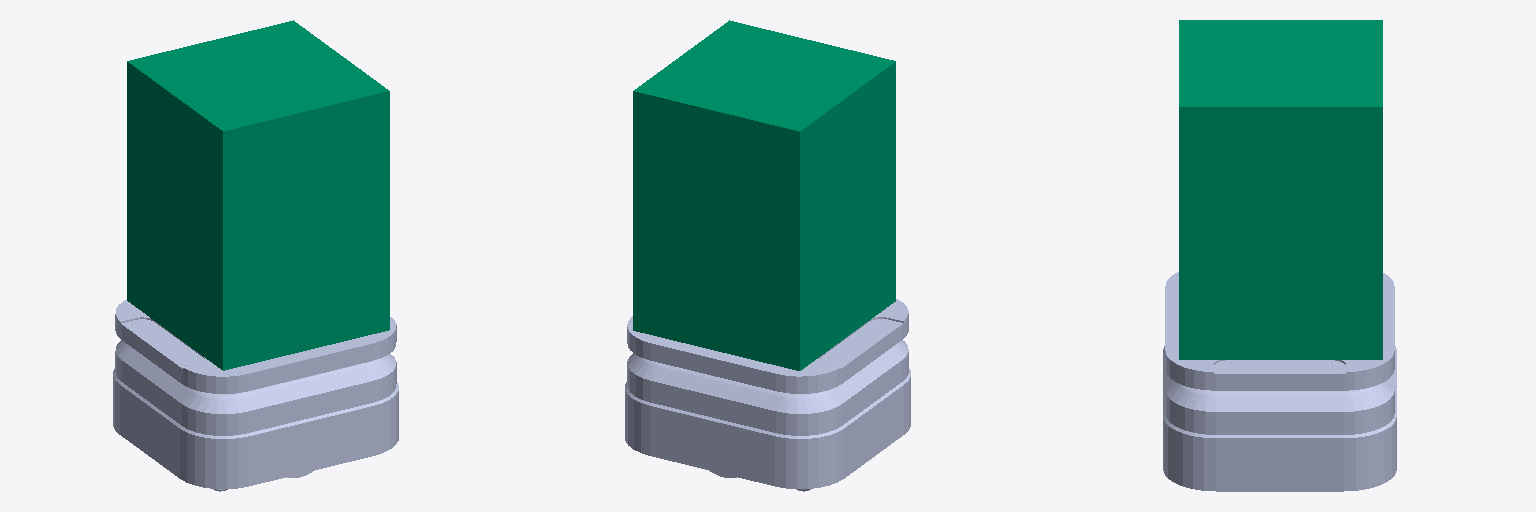
The robot description file, URDF, robot "autoxing":
<?xml version="1.0" encoding="utf-8"?>
<!-- This URDF was automatically created by SolidWorks to URDF Exporter! Originally created by [author] ([email redacted]) 
     Commit Version: 1.6.0-4-g7f85cfe  Build Version: 1.6.7995.38578
     For more information, please see http://wiki.ros.org/sw_urdf_exporter -->
<robot
  name="autoxing">
   <link
    name="Basefoot_link">
   
  </link>
    
  <link
    name="chassis">
    <inertial>
      <origin
        xyz="0.000149481705181087 -0.000120539934038988 0.152123091903942"
        rpy="0 0 0" />
      <mass
        value="40.8730395253421" />
      <inertia
        ixx="0.214418008302521"
        ixy="0.0"
        ixz="-0.0"
        iyy="0.258151038948936"
        iyz="0.0"
        izz="0.450008991346858" />
    </inertial>
    <visual>
      <origin
        xyz="0 0 0"
        rpy="0 0 0" />
      <geometry>
        <mesh
          filename="package://autoxing/meshes/base_link.STL" />
      </geometry>
      <material
        name="">
        <color
          rgba="0.792156862745098 0.819607843137255 0.933333333333333 1" />
      </material>
    </visual>
    <collision>
      <origin
        xyz="0 0 0"
        rpy="0 0 0" />
      <geometry>
        <mesh
          filename="package://autoxing/meshes/base_link.STL" />
      </geometry>
    </collision>
  </link>
 
  <joint
    name="base_link_it"
    type="fixed">
    <origin
      xyz="0 0 0"
      rpy="0 0 0" />
    <parent
      link="Basefoot_link" />
    <child
      link="chassis" />
    <axis
      xyz="0 0 0" />
  </joint>
  
  <link name="struct">
  	<visual>
  	<geometry>
  		<box size="0.4 0.4 0.549077"/>
  	</geometry>
  	<material name="green"/>
  	</visual>
  	 <collision>
      <origin
        xyz="0 0 0"
        rpy="0 0 0" />
      <geometry>
       <box size="0.4 0.4 0.549077"/>
      </geometry>
    </collision>
  </link>
  <joint name="struct_joint" type="fixed">
  	<origin
      xyz="0.00671416680612401 0.00186793926091428 0.488953 "
      rpy="0 0 0" />
  	<parent link="chassis"/>
  	<child link="struct"/>
  </joint>
  
  <link
    name="wheel_left">
    <inertial>
      <origin
        xyz="-1.38777878078145E-16 -7.97972798949331E-17 0.0399999999999999"
        rpy="0 0 0" />
      <mass
        value="1.28203160205244" />
      <inertia
        ixx="0.00231577757345468"
        ixy="0"
        ixz="0"
        iyy="0.00231577757345468"
        iyz="0"
        izz="0.00362433959821745" />
    </inertial>
    <visual>
      <origin
        xyz="0 0 0"
        rpy="0 0 0" />
      <geometry>
        <mesh
          filename="package://autoxing/meshes/wheel_left.STL " />
      </geometry>
      <material
        name="">
        <color
          rgba="0.792156862745098 0.819607843137255 0.933333333333333 1" />
      </material>
    </visual>
    <collision>
      <origin
        xyz="0 0 0"
        rpy="0 0 0" />
      <geometry>
	<cylinder radius="0.08" length="0.05"/>
      </geometry>
    </collision>
  </link>
  <joint
    name="wheel_left_joint"
    type="continuous">
    <origin
      xyz="0 0.120461283375568 0"
      rpy="-1.5707963267949 0 0" />
    <parent
      link="chassis" />
    <child
      link="wheel_left" />
    <axis
      xyz="0 0 1" />
  </joint>
  <link
    name="wheel_right">
    <inertial>
      <origin
        xyz="-1.38777878078145E-17 1.04083408558608E-17 0.0399999999999999"
        rpy="0 0 0" />
      <mass
        value="1.28203160205244" />
      <inertia
        ixx="0.00231577757345468"
        ixy="0"
        ixz="0"
        iyy="0.00231577757345468"
        iyz="0"
        izz="0.00362433959821745" />
    </inertial>
    <visual>
      <origin
        xyz="0 0 0"
        rpy="0 0 0" />
      <geometry>
        <mesh
          filename="package://autoxing/meshes/wheel_right.STL" />
      </geometry>
      <material
        name="">
        <color
          rgba="0.792156862745098 0.819607843137255 0.933333333333333 1" />
      </material>
    </visual>
    <collision>
      <origin
        xyz="0 0 0"
        rpy="0 0 0" />
      <geometry>
        
          <cylinder radius="0.08" length="0.05"/>
      </geometry>
    </collision>
  </link>
  <joint
    name="wheel_right_joint"
    type="continuous">
    <origin
      xyz="0 -0.120461283375569 0"
      rpy="1.5707963267949 0 0" />
    <parent
      link="chassis" />
    <child
      link="wheel_right" />
    <axis
      xyz="0 0 -1" />
  </joint>
  <link
    name="casterhub_front_left">
    <inertial>
      <origin
        xyz="0.00631384572851573 -0.00939402891827468 -7.51390670640402E-05"
        rpy="0 0 0" />
      <mass
        value="0.0507301916211751" />
      <inertia
        ixx="2.13076622334858E-05"
        ixy="-4.77213305526971E-12"
        ixz="-2.15459256741868E-07"
        iyy="2.12936580660824E-05"
        iyz="-3.18977689924232E-11"
        izz="9.21167172411273E-06" />
    </inertial>
    <visual>
      <origin
        xyz="0 0 0"
        rpy="0 0 0" />
      <geometry>
        <mesh
          filename="package://autoxing/meshes/casterhub_front_left.STL" />
      </geometry>
      <material
        name="">
        <color
          rgba="0.792156862745098 0.819607843137255 0.933333333333333 1" />
      </material>
    </visual>
    <collision>
      <origin
        xyz="0 0 0"
        rpy="0 0 0" />
      <geometry>
        <mesh
          filename="package://autoxing/meshes/casterhub_front_left.STL" />
      </geometry>
    </collision>
  </link>
  <joint
    name="casterhub_front_left_joint"
    type="continuous">
    <origin
      xyz="0.191588642505787 0.15140857130743 0.00300000000000051"
      rpy="0 0 0" />
    <parent
      link="chassis" />
    <child
      link="casterhub_front_left" />
    <axis
      xyz="0 0 1" />
       <dynamics damping="0.01" friction="0.0" />
  </joint>
  <link
    name="wheel_lf">
    <inertial>
      <origin
        xyz="2.77555756156289E-17 3.46944695195361E-17 0.0275000000000001"
        rpy="0 0 0" />
      <mass
        value="1.17460228082973" />
      <inertia
        ixx="0.000104635302988195"
        ixy="0"
        ixz="0"
        iyy="0.000104635302988195"
        iyz="0"
        izz="9.93225317269919E-05" />
    </inertial>
    <visual>
      <origin
        xyz="0 0 0"
        rpy="0 0 0" />
      <geometry>
        <mesh
          filename="package://autoxing/meshes/wheel_lf.STL" />
      </geometry>
      <material
        name="">
        <color
          rgba="0.792156862745098 0.819607843137255 0.933333333333333 1" />
      </material>
    </visual>
    <collision>
      <origin
        xyz="0 0 0"
        rpy="0 0 0" />
      <geometry>
        <cylinder radius="0.0375" length="0.055" />
      </geometry>
    </collision>
  </link>
  <joint
    name="wheel_lf_joint"
    type="continuous">
    <origin
      xyz="-0.0185912035639785 -0.036894016223973 -0.0450000000000003"
      rpy="-1.5707963267949 0 0" />
    <parent
      link="casterhub_front_left" />
    <child
      link="wheel_lf" />
    <axis
      xyz="0 0 -1" />
  </joint>
  <link
    name="casterhub_front_right">
    <inertial>
      <origin
        xyz="0.00631384572851623 0.00939400352967251 -7.51390670643212E-05"
        rpy="0 0 0" />
      <mass
        value="0.0507301916211753" />
      <inertia
        ixx="2.13076622334862E-05"
        ixy="0"
        ixz="0"
        iyy="2.12936580660827E-05"
        iyz="0"
        izz="9.21167172411275E-06" />
    </inertial>
    <visual>
      <origin
        xyz="0 0 0"
        rpy="0 0 0" />
      <geometry>
        <mesh
          filename="package://autoxing/meshes/casterhub_front_right.STL" />
      </geometry>
      <material
        name="">
        <color
          rgba="0.792156862745098 0.819607843137255 0.933333333333333 1" />
      </material>
    </visual>
    <collision>
      <origin
        xyz="0 0 0"
        rpy="0 0 0" />
      <geometry>
        <mesh
          filename="package://autoxing/meshes/casterhub_front_right.STL" />
      </geometry>
    </collision>
  </link>
  <joint
    name="casterhub_front_right_joint"
    type="continuous">
    <origin
      xyz="0.191588642505786 -0.151408571307431 0.00300000000000041"
      rpy="0 0 0" />
    <parent
      link="chassis" />
    <child
      link="casterhub_front_right" />
    <axis
      xyz="0 0 1" />
       <dynamics damping="0.01" friction="0.0" />
  </joint>
  <link
    name="wheel_rf">
    <inertial>
      <origin
        xyz="-5.55111512312578E-17 -2.77555756156289E-17 0.0275"
        rpy="0 0 0" />
      <mass
        value="1.17460228082973" />
      <inertia
        ixx="0.000104635302988195"
        ixy="0"
        ixz="0"
        iyy="0.000104635302988195"
        iyz="0"
        izz="9.9322531726992E-05" />
    </inertial>
    <visual>
      <origin
        xyz="0 0 0"
        rpy="0 0 0" />
      <geometry>
        <mesh
          filename="package://autoxing/meshes/wheel_rf.STL" />
      </geometry>
      <material
        name="">
        <color
          rgba="0.792156862745098 0.819607843137255 0.933333333333333 1" />
      </material>
    </visual>
    <collision>
      <origin
        xyz="0 0 0"
        rpy="0 0 0" />
      <geometry>
        <cylinder radius="0.0375" length="0.055" />
      </geometry>
    </collision>
  </link>
  <joint
    name="wheel_rf_joint"
    type="continuous">
    <origin
      xyz="-0.0185912035639783 0.0368940162239737 -0.0450000000000001"
      rpy="1.5707963267949 0 0" />
    <parent
      link="casterhub_front_right" />
    <child
      link="wheel_rf" />
    <axis
      xyz="0 0 1" />
  </joint>
  <link
    name="casterhub_back_left">
    <inertial>
      <origin
        xyz="-0.00631384572595789 -0.00939400352571207 -7.51390691109341E-05"
        rpy="0 0 0" />
      <mass
        value="0.0507301916238285" />
      <inertia
        ixx="2.13076622385357E-05"
        ixy="0"
        ixz="0"
        iyy="2.12936580714444E-05"
        iyz="0"
        izz="9.21167172497116E-06" />
    </inertial>
    <visual>
      <origin
        xyz="0 0 0"
        rpy="0 0 0" />
      <geometry>
        <mesh
          filename="package://autoxing/meshes/casterhub_back_left.STL" />
      </geometry>
      <material
        name="">
        <color
          rgba="0.792156862745098 0.819607843137255 0.933333333333333 1" />
      </material>
    </visual>
    <collision>
      <origin
        xyz="0 0 0"
        rpy="0 0 0" />
      <geometry>
        <mesh
          filename="package://autoxing/meshes/casterhub_back_left.STL" />
      </geometry>
    </collision>
  </link>
  <joint
    name="casterhub_back_left_joint"
    type="continuous">
    <origin
      xyz="-0.191588642505784 0.15140857130743 0.00300000000000039"
      rpy="0 0 0" />
    <parent
      link="chassis" />
    <child
      link="casterhub_back_left" />
    <axis
      xyz="0 0 1" />
       <dynamics damping="0.01" friction="0.0" />
  </joint>
  <link
    name="wheel_lb">
    <inertial>
      <origin
        xyz="5.55111512312578E-17 2.42861286636753E-17 0.0275"
        rpy="0 0 0" />
      <mass
        value="1.17460228082973" />
      <inertia
        ixx="0.000104635302988195"
        ixy="0"
        ixz="0"
        iyy="0.000104635302988195"
        iyz="0"
        izz="9.9322531726992E-05" />
    </inertial>
    <visual>
      <origin
        xyz="0 0 0"
        rpy="0 0 0" />
      <geometry>
        <mesh
          filename="package://autoxing/meshes/wheel_lb.STL" />
      </geometry>
      <material
        name="">
        <color
          rgba="0.792156862745098 0.819607843137255 0.933333333333333 1" />
      </material>
    </visual>
    <collision>
      <origin
        xyz="0 0 0"
        rpy="0 0 0" />
      <geometry>
       <cylinder radius="0.0375" length="0.055" />
      </geometry>
    </collision>
  </link>
  <joint
    name="wheel_lb_joint"
    type="continuous">
    <origin
      xyz="0.0185912035639781 -0.0368940162239735 -0.0450000000000004"
      rpy="-1.5707963267949 0 0" />
    <parent
      link="casterhub_back_left" />
    <child
      link="wheel_lb" />
    <axis
      xyz="0 0 -1" />
  </joint>
  <link
    name="casterhub_back_right">
    <inertial>
      <origin
        xyz="-0.00631384572595783 0.00939402892223568 -7.51390691110208E-05"
        rpy="0 0 0" />
      <mass
        value="0.0507301916238286" />
      <inertia
        ixx="2.1307662238536E-05"
        ixy="-4.77268550032231E-12"
        ixz="2.15459261528391E-07"
        iyy="2.12936580714447E-05"
        iyz="3.19056366466023E-11"
        izz="9.21167172497116E-06" />
    </inertial>
    <visual>
      <origin
        xyz="0 0 0"
        rpy="0 0 0" />
      <geometry>
        <mesh
          filename="package://autoxing/meshes/casterhub_back_right.STL" />
      </geometry>
      <material
        name="">
        <color
          rgba="0.792156862745098 0.819607843137255 0.933333333333333 1" />
      </material>
    </visual>
    <collision>
      <origin
        xyz="0 0 0"
        rpy="0 0 0" />
      <geometry>
        <mesh
          filename="package://autoxing/meshes/casterhub_back_right.STL" />
      </geometry>
    </collision>
  </link>
  <joint
    name="casterhub_back_right_joint"
    type="continuous">
    <origin
      xyz="-0.191588642505784 -0.151408571307431 0.00300000000000018"
      rpy="0 0 0" />
    <parent
      link="chassis" />
    <child
      link="casterhub_back_right" />
    <axis
      xyz="0 0 1" />
       <dynamics damping="0.01" friction="0.0" />
  </joint>
  <link
    name="wheel_rb">
    <inertial>
      <origin
        xyz="-3.33066907387547E-16 2.84494650060196E-16 0.0275"
        rpy="0 0 0" />
      <mass
        value="1.17460228082973" />
      <inertia
        ixx="0.000104635302988195"
        ixy="0"
        ixz="0"
        iyy="0.000104635302988195"
        iyz="0"
        izz="9.93225317269922E-05" />
    </inertial>
    <visual>
      <origin
        xyz="0 0 0"
        rpy="0 0 0" />
      <geometry>
        <mesh
          filename="package://autoxing/meshes/wheel_rb.STL" />
      </geometry>
      <material
        name="">
        <color
          rgba="0.792156862745098 0.819607843137255 0.933333333333333 1" />
      </material>
    </visual>
    <collision>
      <origin
        xyz="0 0 0"
        rpy="0 0 0" />
      <geometry>
       <cylinder radius="0.0375" length="0.055" />
      </geometry>
    </collision>
  </link>
  <joint
    name="wheel_rb_joint"
    type="continuous">
    <origin
      xyz="0.0185912035639779 0.0368940162239737 -0.0450000000000001"
      rpy="1.5707963267949 0 0" />
    <parent
      link="casterhub_back_right" />
    <child
      link="wheel_rb" />
    <axis
      xyz="0 0 1" />
  </joint>
  <link
    name="lidar">
    <inertial>
      <origin
        xyz="-2.77555756156289E-17 0 -0.005"
        rpy="0 0 0" />
      <mass
        value="0.000785398163397448" />
      <inertia
        ixx="1.14537232162128E-08"
        ixy="0"
        ixz="0"
        iyy="1.14537232162128E-08"
        iyz="0"
        izz="9.8174770424681E-09" />
    </inertial>
    <visual>
      <origin
        xyz="0 0 0"
        rpy="0 0 0" />
      <geometry>
        <mesh
          filename="package://autoxing/meshes/lidar.STL" />
      </geometry>
      <material
        name="">
        <color
          rgba="0.792156862745098 0.819607843137255 0.933333333333333 1" />
      </material>
    </visual>
    <collision>
      <origin
        xyz="0 0 0"
        rpy="0 0 0" />
      <geometry>
        <mesh
          filename="package://autoxing/meshes/lidar.STL" />
      </geometry>
    </collision>
  </link>
  <joint
    name="lidar_joint"
    type="fixed">
    <origin
      xyz="0.00671416680612409 0.00186793926091405 0.158"
      rpy="0 0 0" />
    <parent
      link="chassis" />
    <child
      link="lidar" />
    <axis
      xyz="0 0 0" />
  </joint>
    <!--imu_sensor-->
     <link
    name="imu_link">
    <inertial>
      <origin
        xyz="-2.77555756156289E-17 0 -0.005"
        rpy="0 0 0" />
      <mass
        value="0.000785398163397448" />
      <inertia
        ixx="1.14537232162128E-08"
        ixy="0"
        ixz="-3.39253103278279E-24"
        iyy="1.14537232162128E-08"
        iyz="-1.03950157856018E-23"
        izz="9.8174770424681E-09" />
    </inertial>
    <visual>
      <origin
        xyz="0 0 0"
        rpy="0 0 0" />
      <geometry>
        <mesh
          filename="package://autoxing/meshes/lidar.STL" />
      </geometry>
      <material
        name="">
        <color
          rgba="0.792156862745098 0.819607843137255 0.933333333333333 1" />
      </material>
    </visual>
    <collision>
      <origin
        xyz="0 0 0"
        rpy="0 0 0" />
      <geometry>
        <mesh
          filename="package://autoxing/meshes/lidar.STL" />
      </geometry>
    </collision>
  </link>
  <joint
    name="imu_joint"
    type="fixed">
    <origin
      xyz="0.00671416680612409 0.00186793926091405 0.1"
      rpy="0 0 0" />
    <parent
      link="chassis" />
    <child
      link="imu_link" />
    <axis
      xyz="0 0 0" />
  </joint>
   <gazebo reference="chassis">
  	<material>Gazebo/Turquoise </material>
  </gazebo>
  <gazebo reference="wheel_left">
  	<mu1>1.0</mu1>
  	<mu2>1.0</mu2>
  	<kp>10000000</kp>
  	<kd>1.0</kd>
  	<material>Gazebo/FlatBlack</material>
  </gazebo>
   <gazebo reference="wheel_right">
  	<mu1>1.0</mu1>
  	<mu2>1.0</mu2>
  	<kp>10000000</kp>
  	<kd>1.0</kd>   
  	<material>Gazebo/FlatBlack</material>
  </gazebo>
   <gazebo reference="lidar">
  	<material>Gazebo/Green</material>
  </gazebo>
   <gazebo reference="wheel_lf">
  	<mu1>1.0</mu1>
  	<mu2>1.0</mu2>
  	<kp>10000000</kp>
  	<kd>1.0</kd>   
  	<material>Gazebo/FlatBlack</material>
  </gazebo>
   <gazebo reference="wheel_rf">
  	<mu1>1.0</mu1>
  	<mu2>1.0</mu2>
  	<kp>10000000</kp>
  	<kd>1.0</kd>   
  	<material>Gazebo/FlatBlack</material>
  </gazebo>
   <gazebo reference="wheel_lb">
  	<mu1>1.0</mu1>
  	<mu2>1.0</mu2>
  	<kp>10000000</kp>
  	<kd>1.0</kd>   
  	<material>Gazebo/FlatBlack</material>
  </gazebo>
   <gazebo reference="wheel_rb">
    <mu1>1.0</mu1>
  	<mu2>1.0</mu2>
  	<kp>10000000</kp>
  	<kd>1.0</kd> 
  	<material>Gazebo/FlatBlack</material>
  </gazebo>
   <!-- adding diff drive -->
   <gazebo>
   <plugin name="differential_drive_controller" filename="libgazebo_ros_diff_drive.so">

    <!-- Plugin update rate in Hz -->
    <updateRate>50</updateRate>

    <!-- Name of left joint, defaults to `left_joint` -->
    <leftJoint>wheel_left_joint</leftJoint>

    <!-- Name of right joint, defaults to `right_joint` -->
    <rightJoint>wheel_right_joint</rightJoint>

    <!-- The distance from the center of one wheel to the other, in meters, defaults to 0.34 m -->
    <wheelSeparation>0.32</wheelSeparation>

    <!-- Diameter of the wheels, in meters, defaults to 0.15 m -->
    <wheelDiameter>0.16</wheelDiameter>

    <!-- Wheel acceleration, in rad/s^2, defaults to 0.0 rad/s^2 -->
    <wheelAcceleration>1.2</wheelAcceleration>

    <!-- Maximum torque which the wheels can produce, in Nm, defaults to 5 Nm -->
    <wheelTorque>5</wheelTorque>

    <!-- Topic to receive geometry_msgs/Twist message commands, defaults to `cmd_vel` -->
    <commandTopic>cmd_vel</commandTopic>

    <!-- Topic to publish nav_msgs/Odometry messages, defaults to `odom` -->
    <odometryTopic>odom</odometryTopic>

    <!-- Odometry frame, defaults to `odom` -->
    <odometryFrame>odom</odometryFrame>

    <!-- Robot frame to calculate odometry from, defaults to `base_footprint` -->
    <robotBaseFrame>chassis</robotBaseFrame>

    <!-- Odometry source, 0 for ENCODER, 1 for WORLD, defaults to WORLD -->
    <odometrySource>1</odometrySource>

    <!-- Set to true to publish transforms for the wheel links, defaults to false -->
    <publishWheelTF>true</publishWheelTF>

    <!-- Set to true to publish transforms for the odometry, defaults to true -->
    <publishOdom>true</publishOdom>

    <!-- Set to true to publish sensor_msgs/JointState on /joint_states for the wheel joints, defaults to false -->
    <publishWheelJointState>true</publishWheelJointState>

    <!-- Set to true to swap right and left wheels, defaults to true -->
    <legacyMode>false</legacyMode>
   </plugin>
 </gazebo>
 
 <!-- hokuyo -->
  <gazebo reference="lidar">
    <sensor type="ray" name="sensor">
      <pose>0 0 0 0 0 0</pose>
      <visualize>false</visualize>
      <update_rate>40</update_rate>
      <ray>
        <scan>
          <horizontal>
            <samples>720</samples>
            <resolution>1</resolution>
            <min_angle>-1.570796</min_angle>
            <max_angle>4.712388</max_angle> <!-- 1.570796-->
          </horizontal>
        </scan>
        <range>
          <min>0.10</min>
          <max>30.0</max>
          <resolution>0.01</resolution>
        </range>
        <noise>
          <type>gaussian</type>
          <!-- Noise parameters based on published spec for Hokuyo laser
               achieving "+-30mm" accuracy at range < 10m.  A mean of 0.0m and
               stddev of 0.01m will put 99.7% of samples within 0.03m of the true
               reading. -->
          <mean>0.0</mean>
          <stddev>0.01</stddev>
        </noise>
      </ray>
      
      <plugin name="hokuyo_node" filename="libgazebo_ros_laser.so">
        <topicName>/laser/scan</topicName>
        <frameName>lidar</frameName>
      </plugin> 
    </sensor>
  </gazebo>
   <!-- imu sensor -->
     <gazebo>
    <plugin name="imu_plugin" filename="libgazebo_ros_imu.so">
      <alwaysOn>true</alwaysOn>
      <bodyName>chassis</bodyName>
      <topicName>imu</topicName>
      <serviceName>imu_service</serviceName>
      <gaussianNoise>0.0</gaussianNoise>
      <updateRate>1.0</updateRate>
    </plugin>
  </gazebo>
   <gazebo reference="imu_link">
    <gravity>true</gravity>
    <sensor name="imu_sensor" type="imu">
      <always_on>true</always_on>
      <update_rate>100</update_rate>
      <visualize>true</visualize>
      <topic>__default_topic__</topic>
      <plugin filename="libgazebo_ros_imu_sensor.so" name="imu_plugin">
        <topicName>imu</topicName>
        <bodyName>imu_link</bodyName>
        <updateRateHZ>10.0</updateRateHZ>
        <gaussianNoise>0.0</gaussianNoise>
        <xyzOffset>0 0 0</xyzOffset>
        <rpyOffset>0 0 0</rpyOffset>
        <frameName>imu_link</frameName>
        <initialOrientationAsReference>false</initialOrientationAsReference>
      </plugin>
      <pose>0 0 0 0 0 0</pose>
    </sensor>
  </gazebo>
</robot>

--- Render facts (derived) ---
Views: 3 orthographic renders of the robot side by side, from view 1: azimuth 30°, elevation 25°; view 2: azimuth 150°, elevation 25°; view 3: azimuth 270°, elevation 25°.
Model autoxing with 15 links and 14 joints (10 continuous, 4 fixed), rooted at Basefoot_link, posed all joints at 0.
Visible links, largest first — view 1: struct, chassis; view 2: struct, chassis; view 3: struct, chassis.
Boxes of the visible links, left/top/right/bottom form: struct: left=127, top=20, right=389, bottom=370; chassis: left=113, top=300, right=398, bottom=488; struct: left=633, top=20, right=895, bottom=370; chassis: left=625, top=299, right=910, bottom=488; struct: left=1179, top=20, right=1382, bottom=359; chassis: left=1163, top=272, right=1396, bottom=491.
Bounding box of the posed robot: 0.51 × 0.46 × 0.8435 m (x, y, z).
13 mesh visuals loaded from 12 distinct referenced files (12 binary STL).
